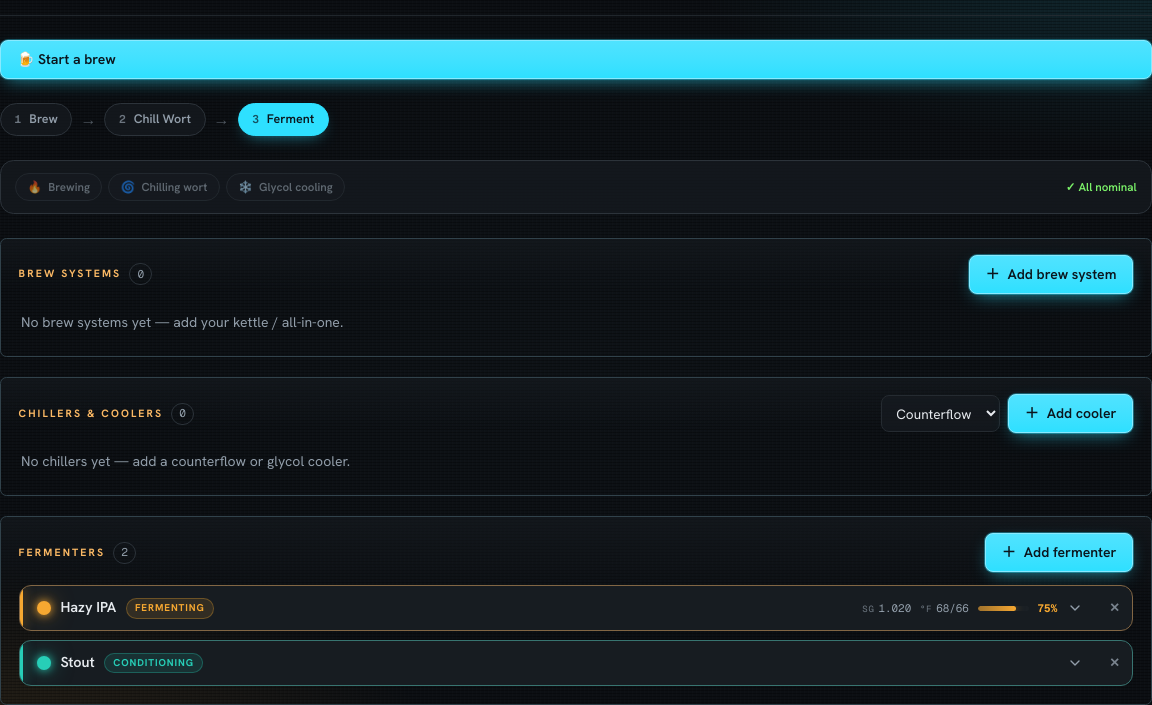
Test: FermenterRow — cinematic single-expand › opening a second row collapses the first (only one open at a time)
(page scrolled)
Click the button "Hazy IPA Fermenting SG 1.020 °F 68/66 75%". click: (88, 607)
box: [20,586,1096,630]
(page scrolled)
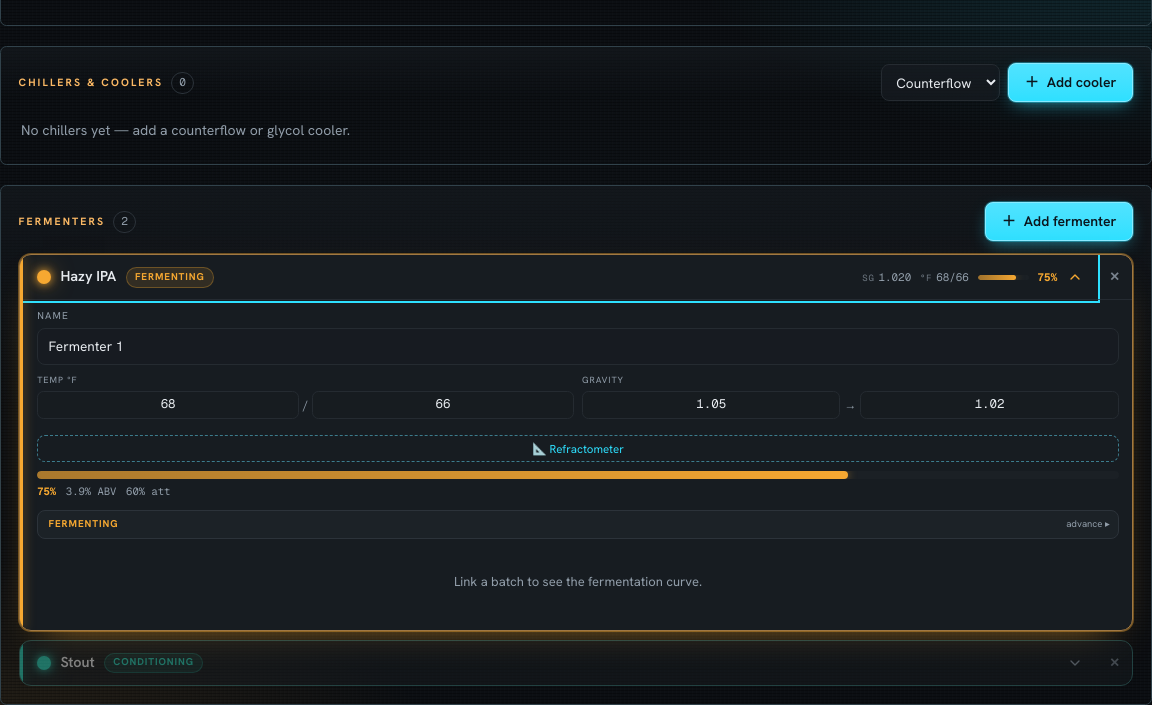
Expected: the element named "Hazy IPA controls" is shown, [20,299,1132,630]
Click the button "Stout Conditioning". click: (78, 662)
box: [20,641,1096,685]
(page scrolled)
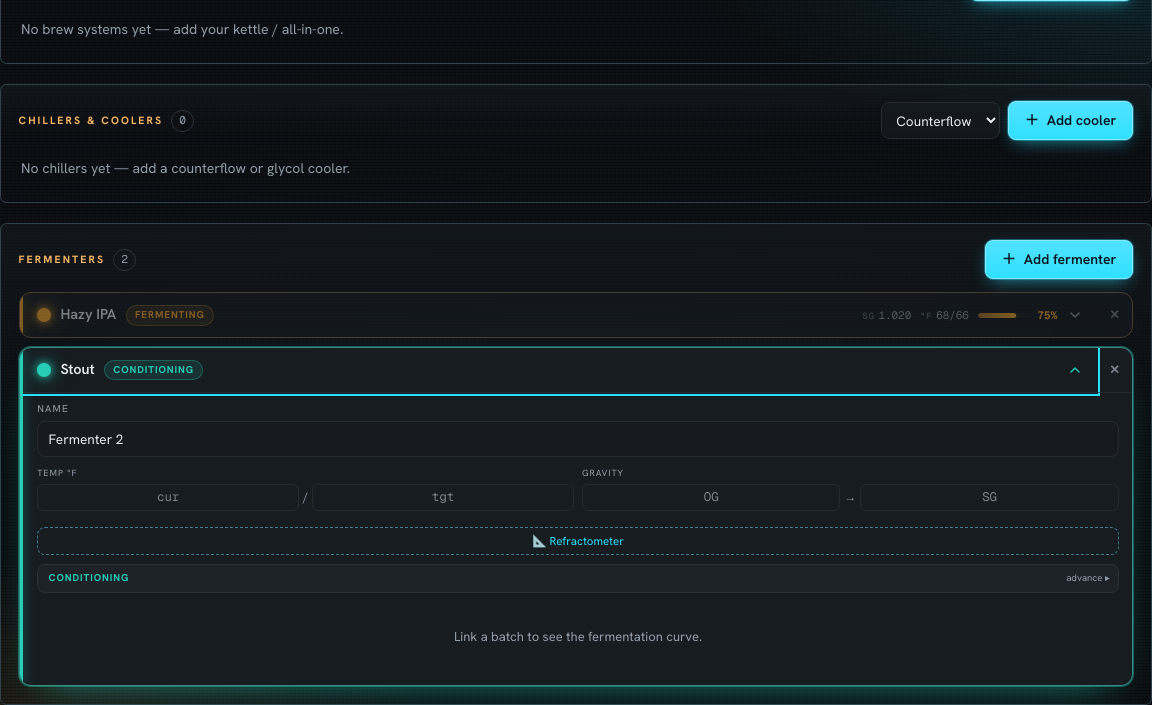
Expected: the element named "Stout controls" is shown, [20,392,1132,685]
Expected: the button "Hazy IPA Fermenting SG 1.020 °F 68/66 75%" is collapsed, [20,293,1096,337]
